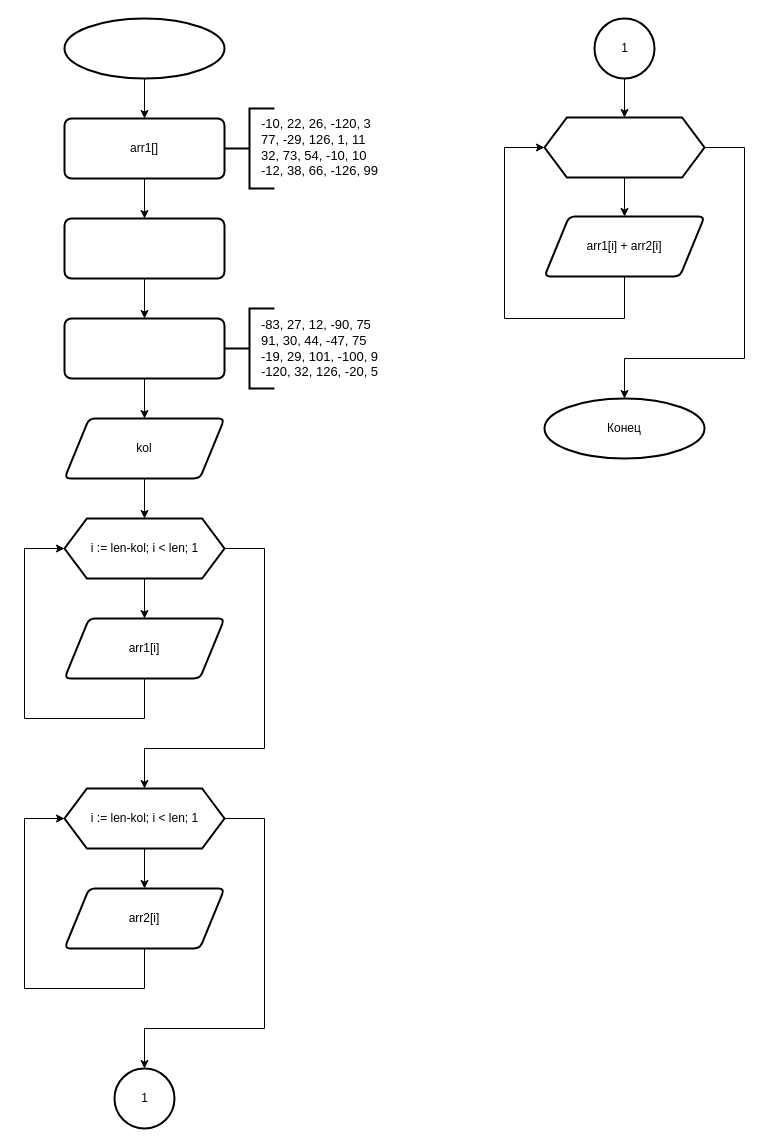
Some shapes in this 770 by 1146 pixel diagram are drawn without their labels. Each missing label, with the box of its shape:
arr2[]: (63, 317, 225, 379)
i := len-1; i >= len-kol; -1: (543, 116, 705, 178)
len := $ - len: (63, 217, 225, 279)
Начало: (63, 17, 225, 79)
